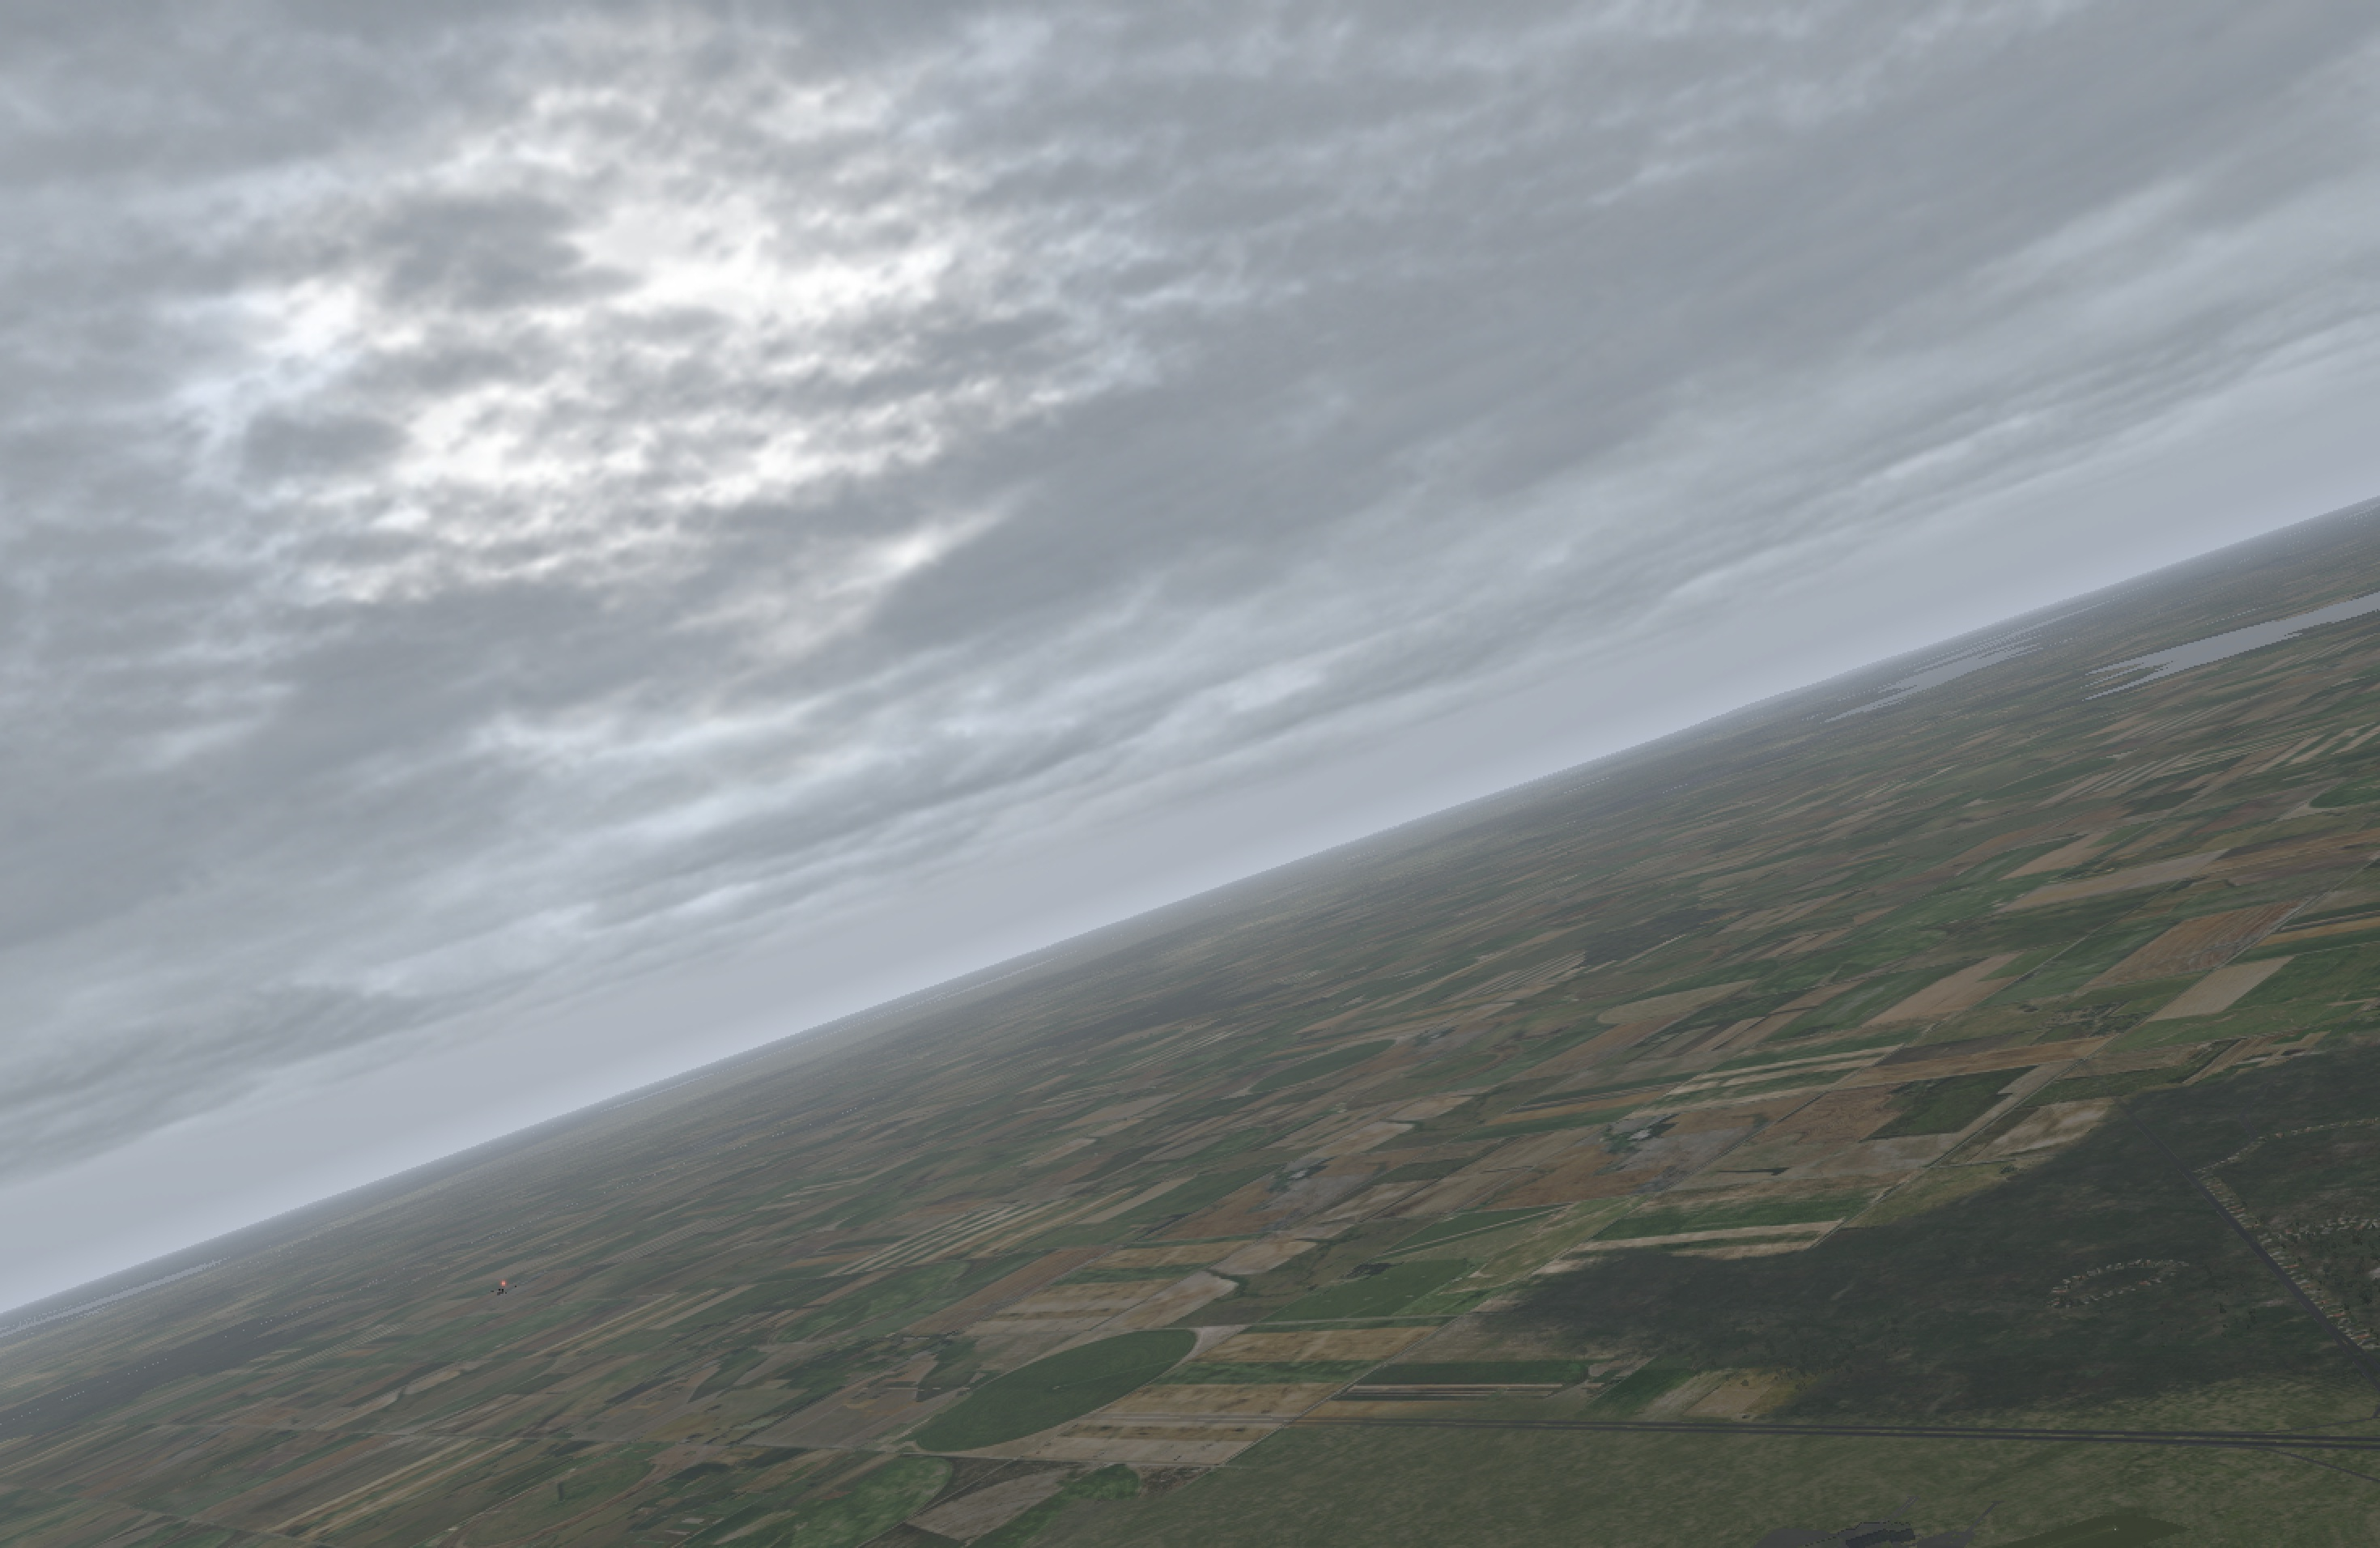aircraft: (491, 1288, 512, 1295)
